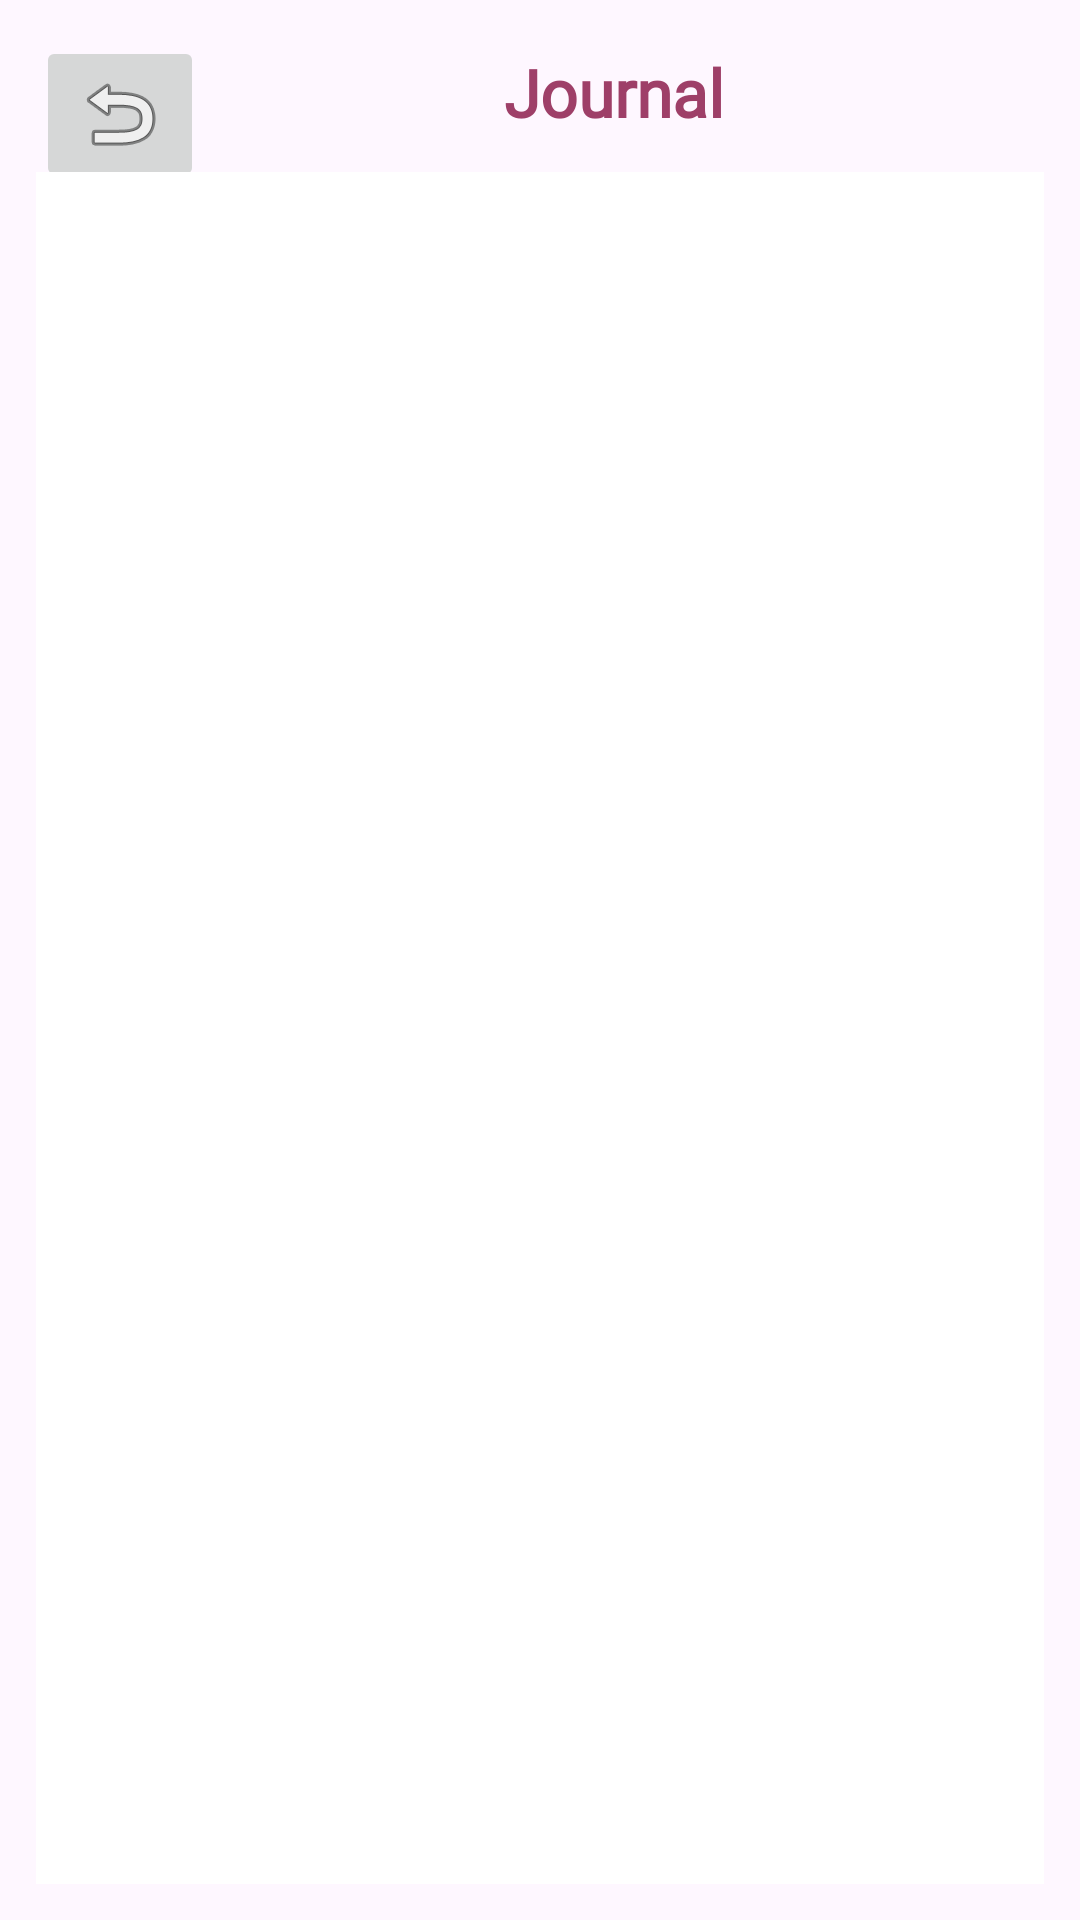

Screen size 1080x1920. Icon name, then its box in pixels as (x1, y1, x2, y2):
Back to Main: (48, 54, 192, 172)
